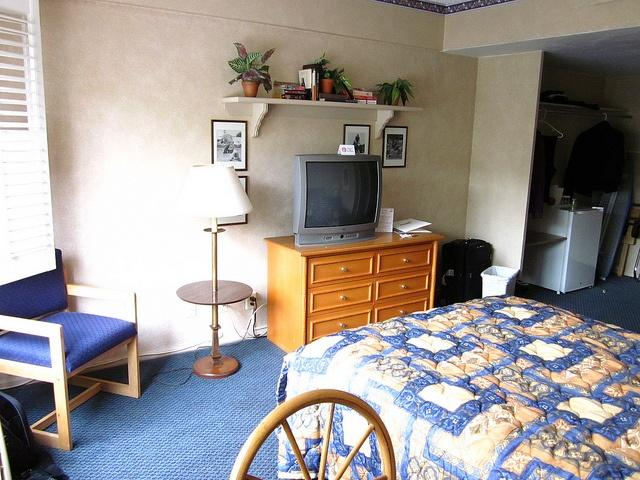AIO PC-Monitor-TV: (294, 153, 382, 234)
Kursi: (0, 247, 140, 449)
